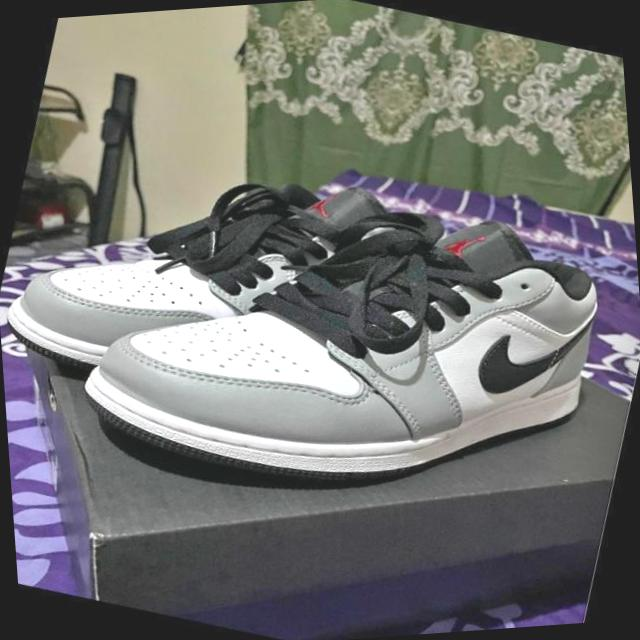nike_original_jordan: (41, 109, 640, 591), (0, 89, 483, 470)
